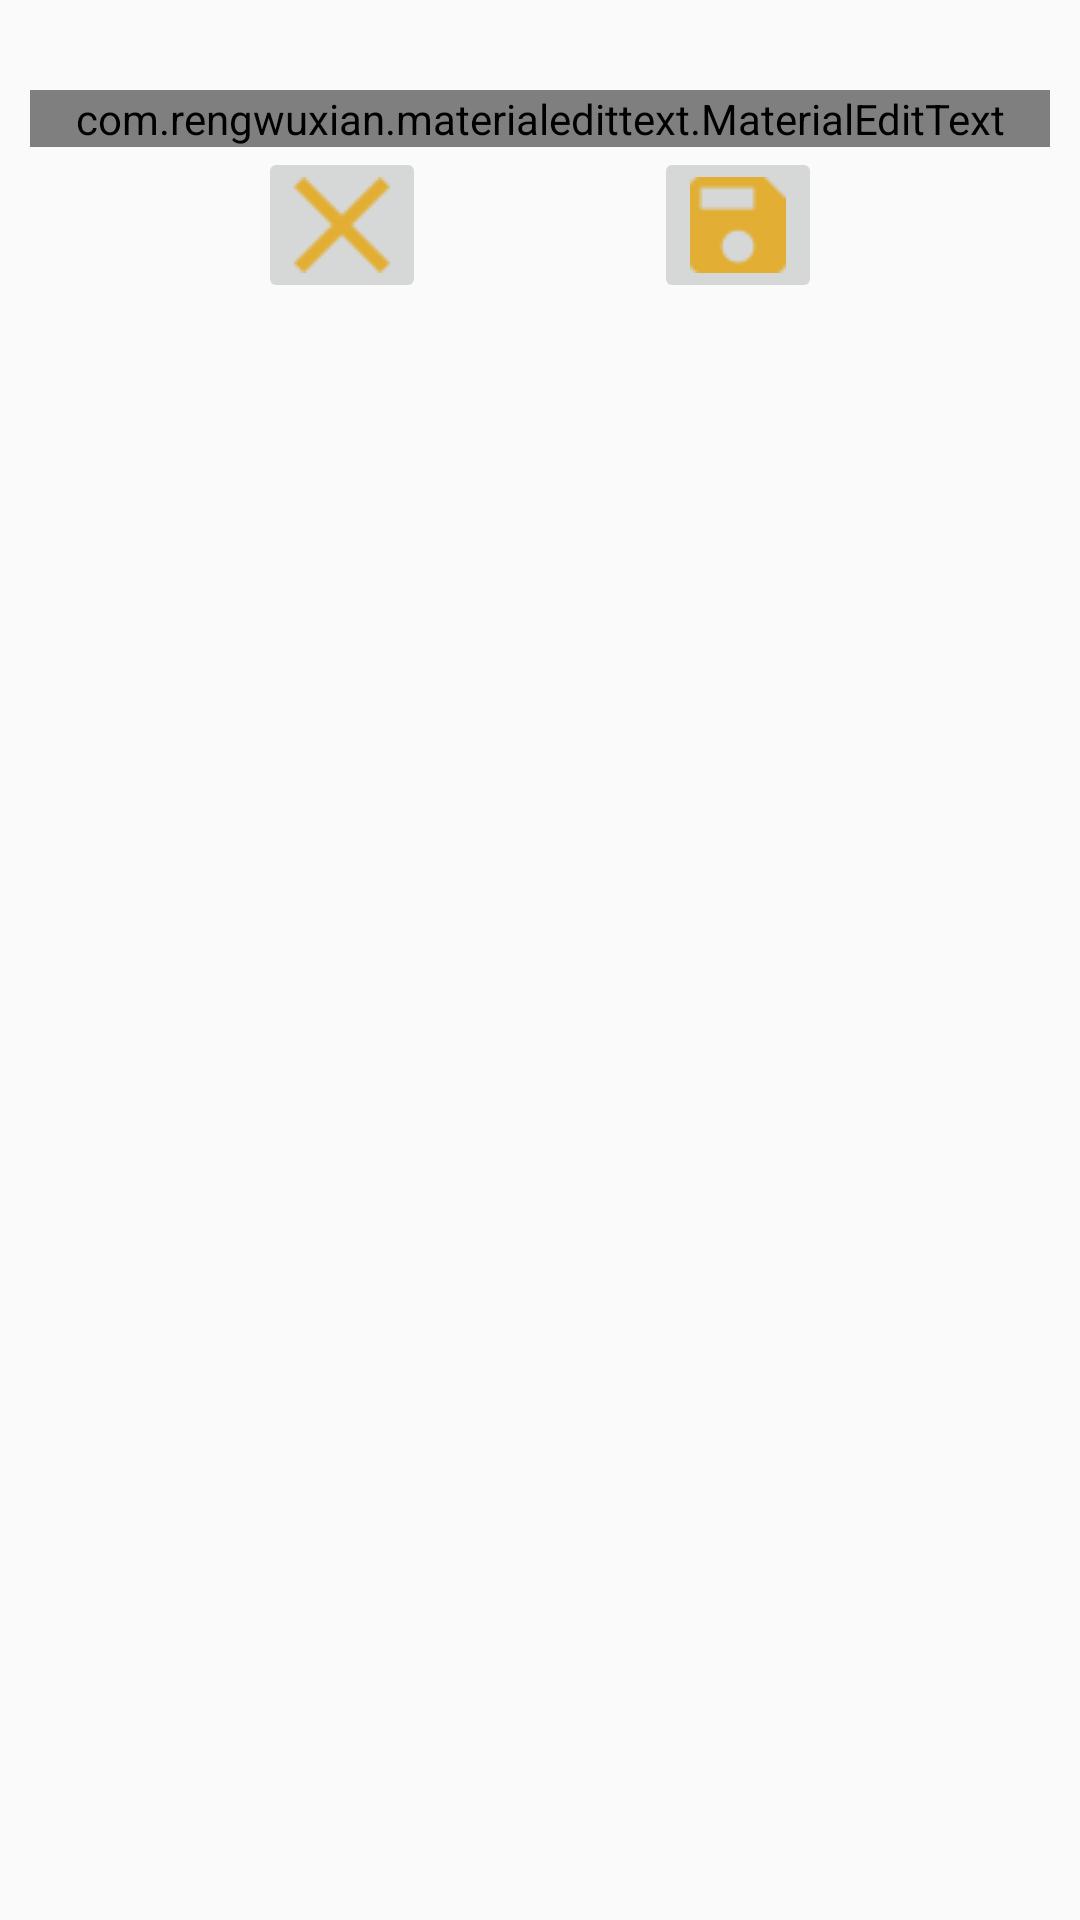

Locate icon controls on the screen. Image size 1080*1920, boxes as (x1,y1,x2,y2).
close: (270,165,414,285)
save: (666,165,810,285)
